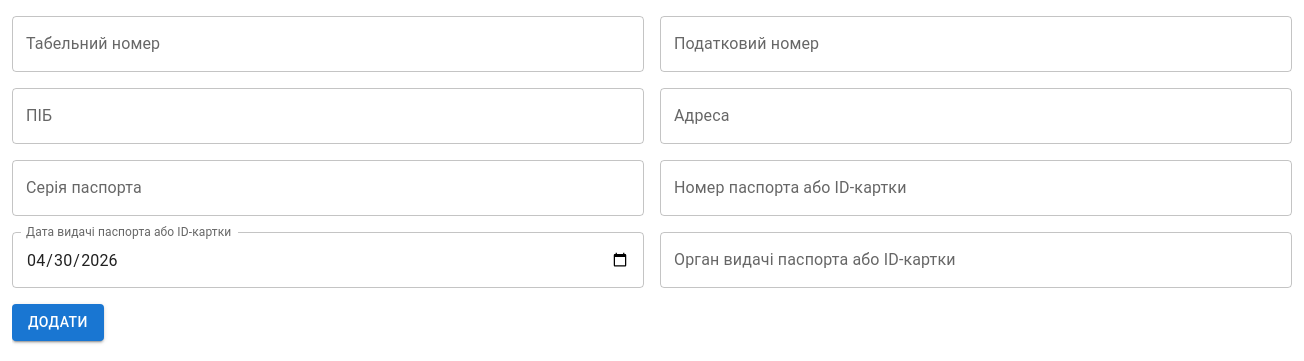
Scenario: EmployeeForm › disables submit button when submitting
This screenshot has width=1304, height=361.
Type "1234567890" into the field labelled "Податковий номер" at x=976, y=44, box [660, 16, 1292, 72]
Type "John Doe" into the field labelled "ПІБ" at x=328, y=116, box [12, 88, 644, 144]
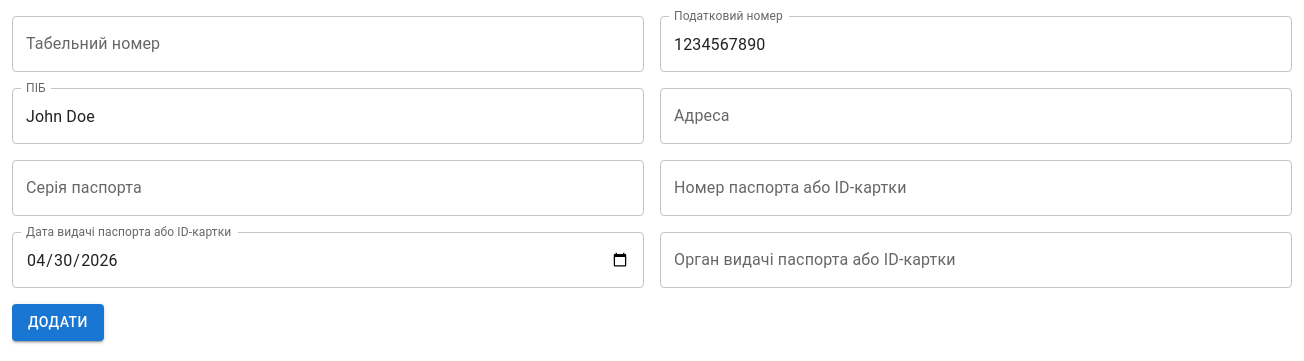
Type "АБ" into the field labelled "Серія паспорта" at x=328, y=188, box [12, 160, 644, 216]
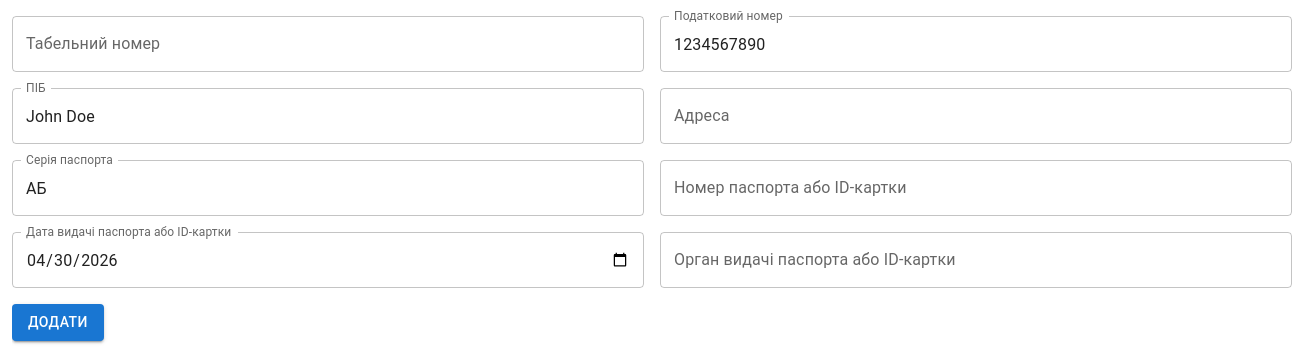
Type "123456" into the field labelled "Номер паспорта або ID-картки" at x=976, y=188, box [660, 160, 1292, 216]
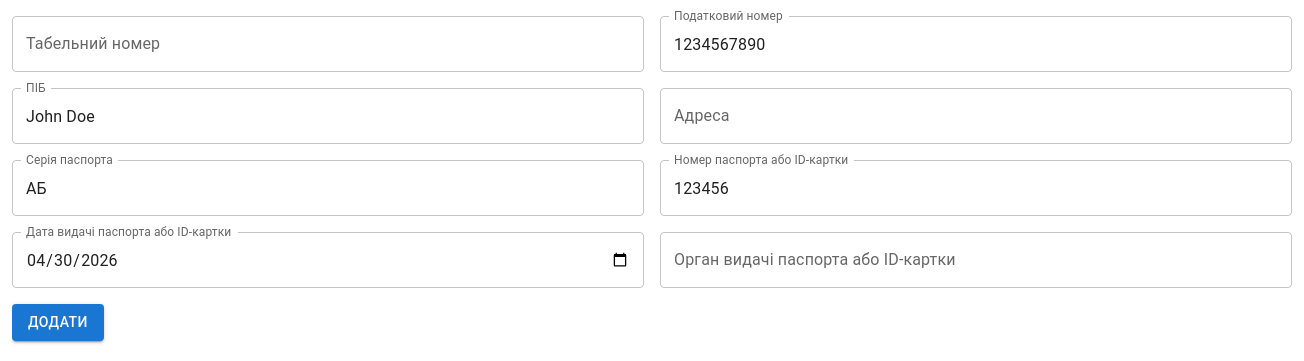
Type "2023-01-01" into the date field labelled "Дата видачі паспорта або ID-картки" at x=328, y=260, box [12, 232, 644, 288]
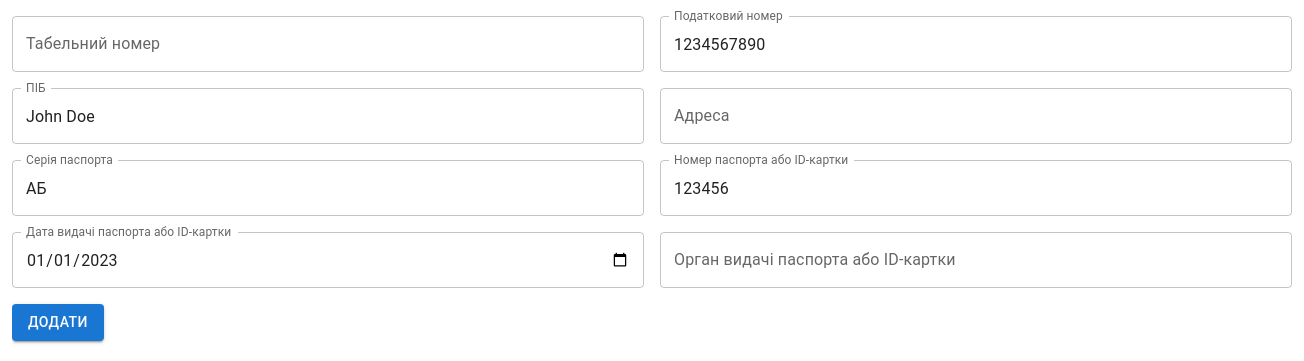
Type "5600" into the field labelled "Орган видачі паспорта або ID-картки" at x=976, y=260, box [660, 232, 1292, 288]
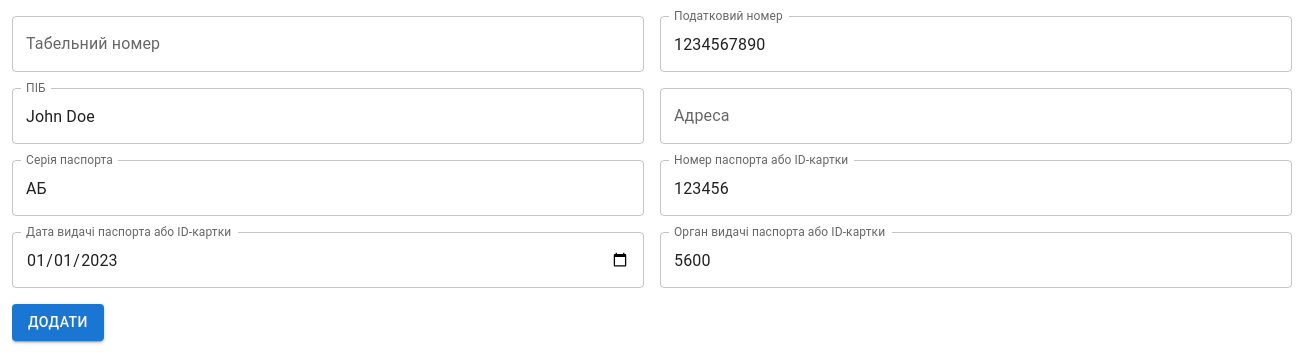
Click the button "Додати" at x=58, y=322, box [12, 304, 104, 340]
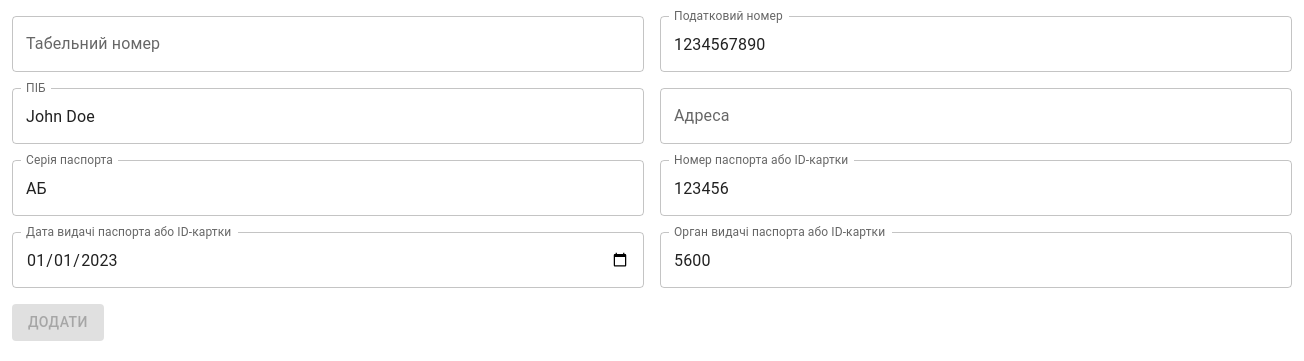
Expected: the button "Додати" is disabled, [12, 304, 104, 340]
